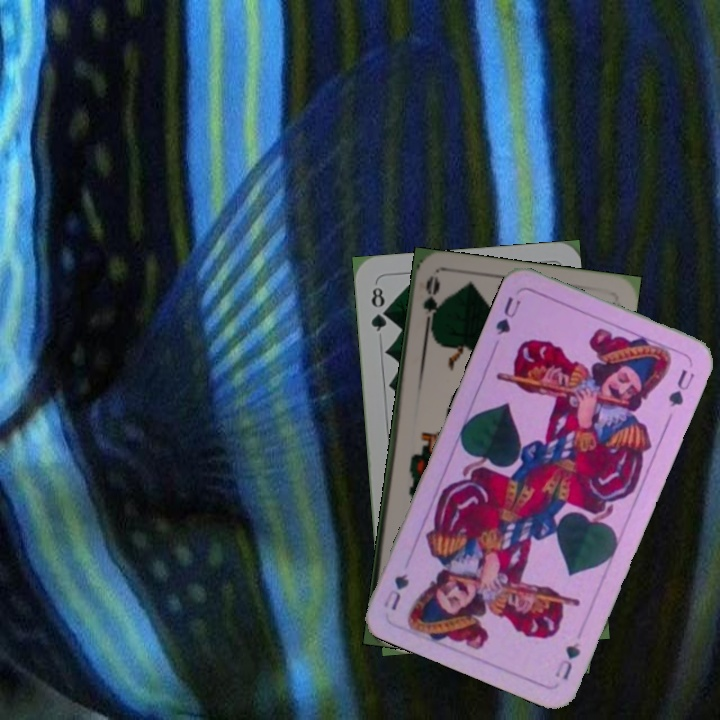G8: (367, 283, 391, 334)
GO: (419, 274, 443, 334)
GU: (491, 292, 524, 338), (551, 638, 583, 683)
